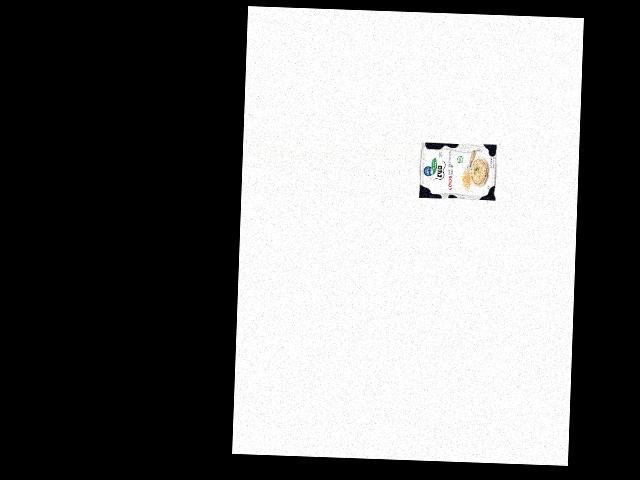cheese: (418, 141, 498, 202)
